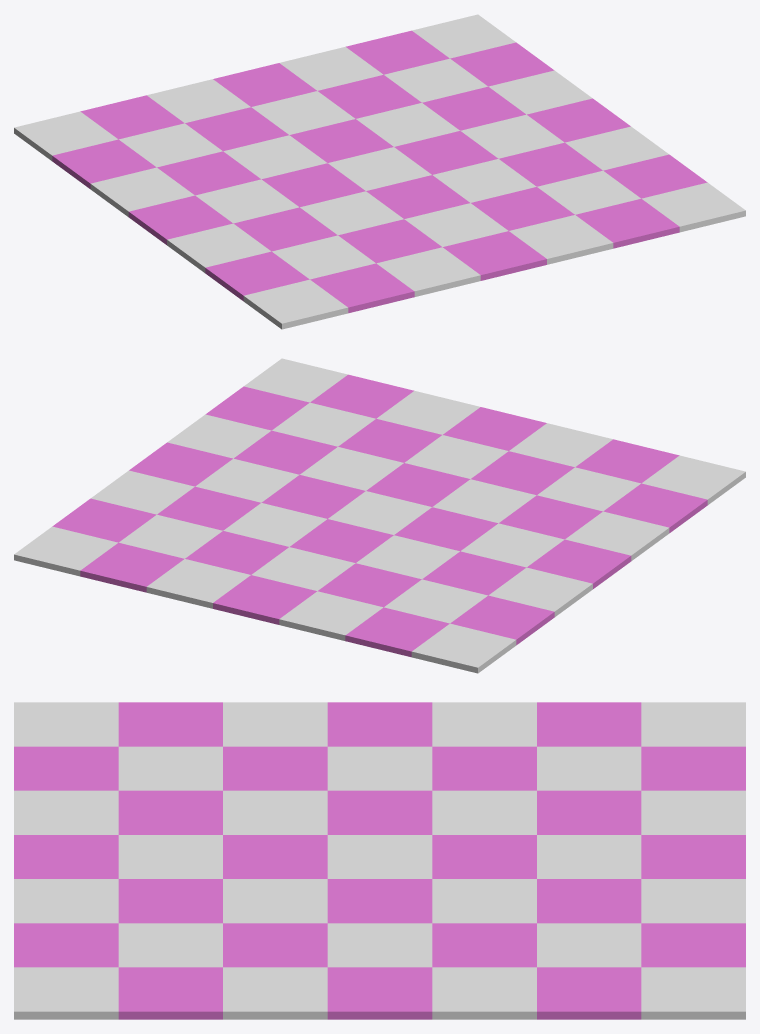
Rendered from Cloth.fbx.
3 renders of one model, top to bottom at view 1: azimuth 30°, elevation 25°; view 2: azimuth 150°, elevation 25°; view 3: azimuth 270°, elevation 25°, orthographic. The views are drawn at different scales.
Parts seen in each view (by area): view 1: Plane; view 2: Plane; view 3: Plane.
Part boxes in pixels (x1=…): Plane: x1=14, y1=14, x2=745, y2=329; Plane: x1=14, y1=358, x2=745, y2=673; Plane: x1=14, y1=702, x2=745, y2=1019.
Size of the model in its own units: 1699 by 20.48 by 1699.
